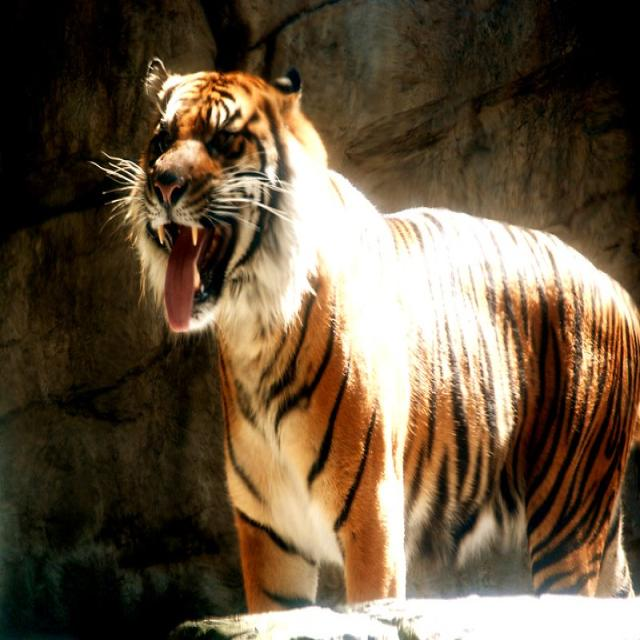Tiger: (92, 52, 639, 613)
